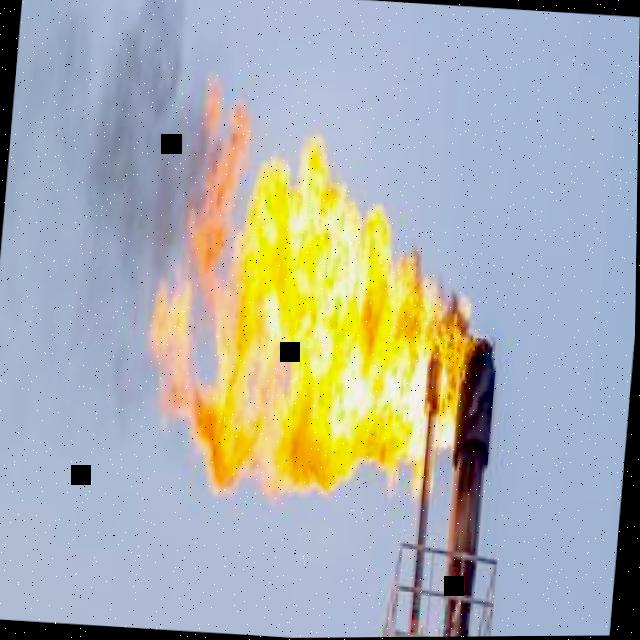fire: (147, 58, 478, 512)
smoke: (0, 0, 225, 441)
